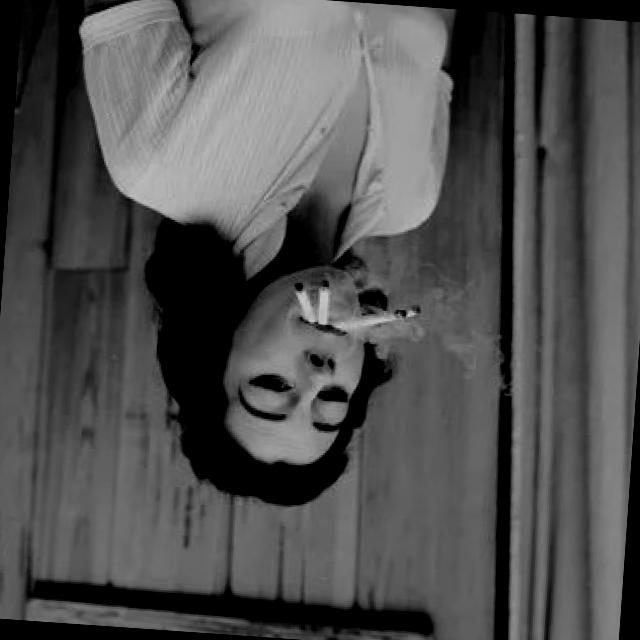smoke: (329, 296, 428, 340), (278, 274, 316, 334), (316, 270, 336, 329)
